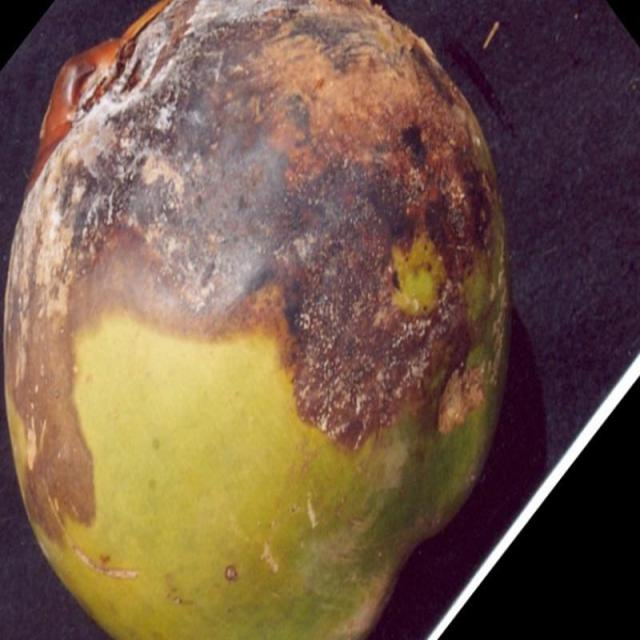damaged: (0, 0, 514, 639)
